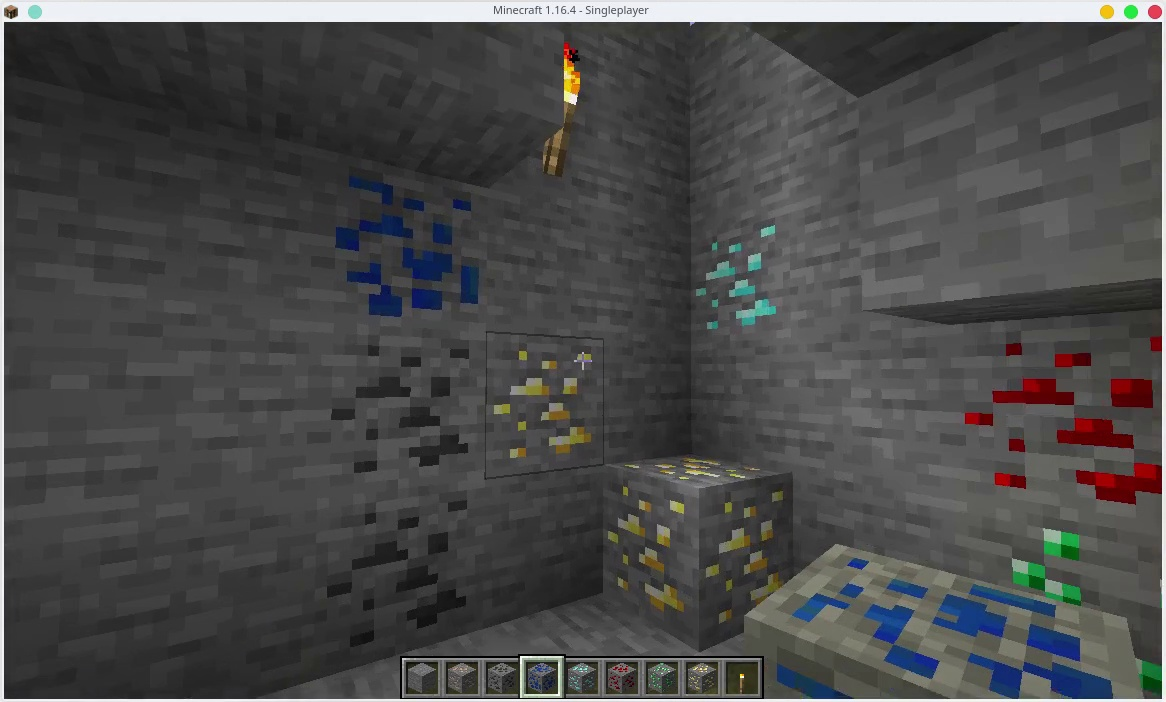gold: (617, 443, 787, 644), (487, 326, 603, 468), (682, 660, 715, 695)
